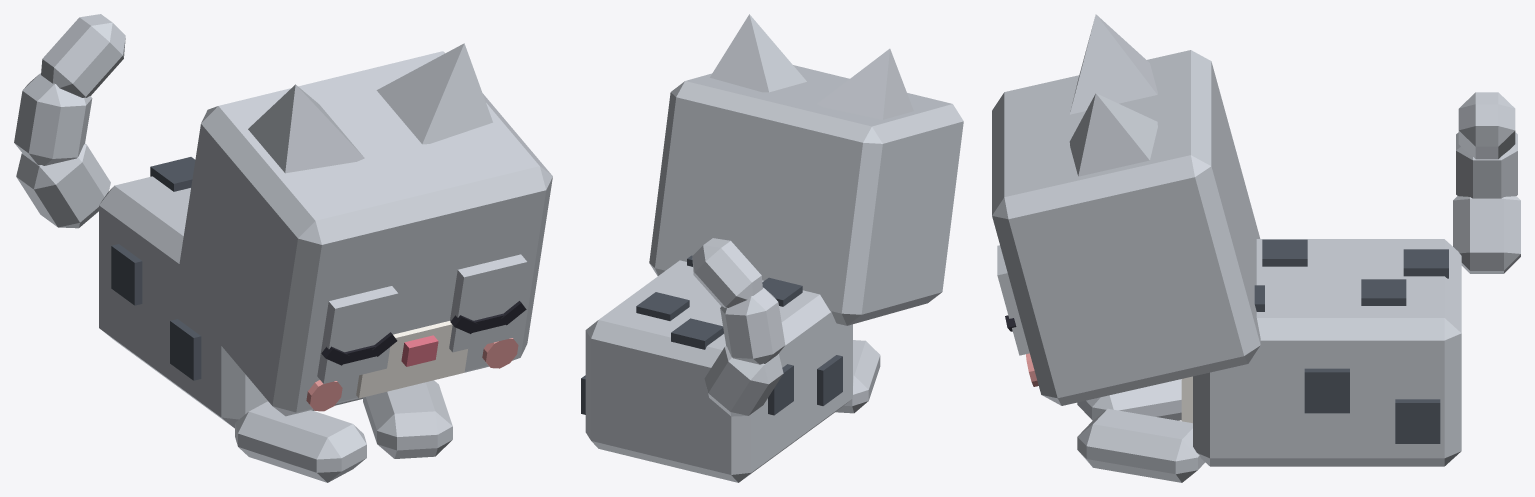
The model's file is CleanACat_Cat_Marble_Loaf_Lite.fbx.
3 renders of one model, left to right at view 1: azimuth 30°, elevation 25°; view 2: azimuth 150°, elevation 25°; view 3: azimuth 270°, elevation 25°, orthographic. The views are drawn at different scales.
Parts seen in each view (by area): view 1: CleanACat_Cat_Marble_Loaf_Lite_Head, CleanACat_Cat_Marble_Loaf_Lite_Body, CleanACat_Cat_Marble_Loaf_Lite_Tail, CleanACat_Cat_Marble_Loaf_Lite_Paws, CleanACat_Cat_Marble_Loaf_Lite_EarL, CleanACat_Cat_Marble_Loaf_Lite_Eye2, CleanACat_Cat_Marble_Loaf_Lite_Eye1, CleanACat_Cat_Marble_Loaf_Lite_EarR; view 2: CleanACat_Cat_Marble_Loaf_Lite_Head, CleanACat_Cat_Marble_Loaf_Lite_Body, CleanACat_Cat_Marble_Loaf_Lite_Tail, CleanACat_Cat_Marble_Loaf_Lite_EarL, CleanACat_Cat_Marble_Loaf_Lite_EarR, CleanACat_Cat_Marble_Loaf_Lite_Paws; view 3: CleanACat_Cat_Marble_Loaf_Lite_Head, CleanACat_Cat_Marble_Loaf_Lite_Body, CleanACat_Cat_Marble_Loaf_Lite_Tail, CleanACat_Cat_Marble_Loaf_Lite_Paws, CleanACat_Cat_Marble_Loaf_Lite_EarL, CleanACat_Cat_Marble_Loaf_Lite_EarR, CleanACat_Cat_Marble_Loaf_Lite_Eye1.
Boxes of the visible parts, bbox=[...] form: CleanACat_Cat_Marble_Loaf_Lite_Head: bbox=[175, 51, 552, 416]; CleanACat_Cat_Marble_Loaf_Lite_Body: bbox=[99, 157, 362, 428]; CleanACat_Cat_Marble_Loaf_Lite_Tail: bbox=[14, 14, 125, 228]; CleanACat_Cat_Marble_Loaf_Lite_Paws: bbox=[235, 380, 452, 482]; CleanACat_Cat_Marble_Loaf_Lite_EarL: bbox=[376, 43, 492, 144]; CleanACat_Cat_Marble_Loaf_Lite_Eye2: bbox=[317, 286, 398, 383]; CleanACat_Cat_Marble_Loaf_Lite_Eye1: bbox=[449, 254, 527, 352]; CleanACat_Cat_Marble_Loaf_Lite_EarR: bbox=[248, 84, 364, 173]; CleanACat_Cat_Marble_Loaf_Lite_Head: bbox=[649, 65, 963, 325]; CleanACat_Cat_Marble_Loaf_Lite_Body: bbox=[581, 255, 852, 482]; CleanACat_Cat_Marble_Loaf_Lite_Tail: bbox=[692, 238, 785, 416]; CleanACat_Cat_Marble_Loaf_Lite_EarL: bbox=[710, 14, 806, 92]; CleanACat_Cat_Marble_Loaf_Lite_EarR: bbox=[817, 48, 913, 119]; CleanACat_Cat_Marble_Loaf_Lite_Paws: bbox=[835, 340, 880, 413]; CleanACat_Cat_Marble_Loaf_Lite_Head: bbox=[992, 50, 1260, 405]; CleanACat_Cat_Marble_Loaf_Lite_Body: bbox=[1181, 239, 1461, 466]; CleanACat_Cat_Marble_Loaf_Lite_Tail: bbox=[1453, 92, 1520, 273]; CleanACat_Cat_Marble_Loaf_Lite_Paws: bbox=[1077, 379, 1204, 482]; CleanACat_Cat_Marble_Loaf_Lite_EarL: bbox=[1069, 93, 1157, 176]; CleanACat_Cat_Marble_Loaf_Lite_EarR: bbox=[1070, 14, 1157, 114]; CleanACat_Cat_Marble_Loaf_Lite_Eye1: bbox=[997, 245, 1029, 355].
Size of the model in its own units: 1.11 by 1.52 by 1.87.
1 material, 1 textured.
